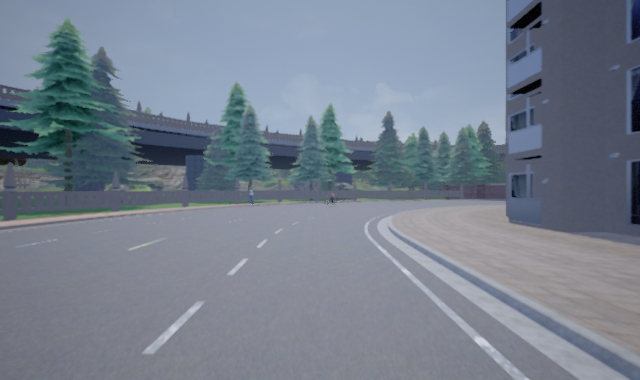bike: (321, 190, 342, 207)
pedestrian: (247, 186, 257, 204)
